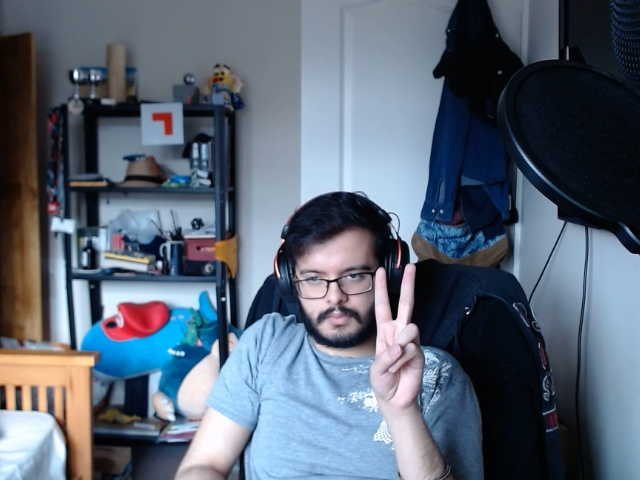Peace: (360, 258, 435, 408)
